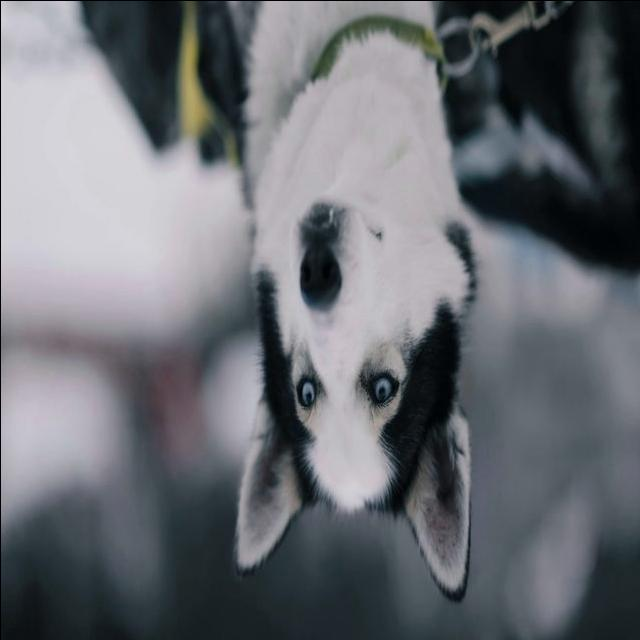husky: (220, 2, 482, 605)
